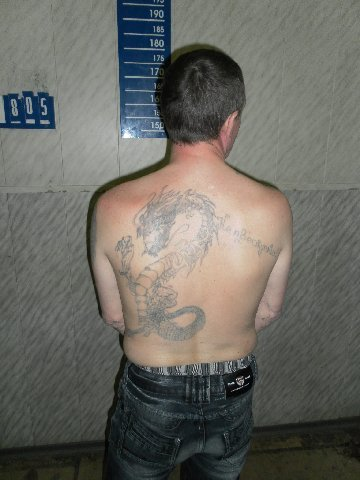tatu6_drakon: (108, 189, 223, 339)
